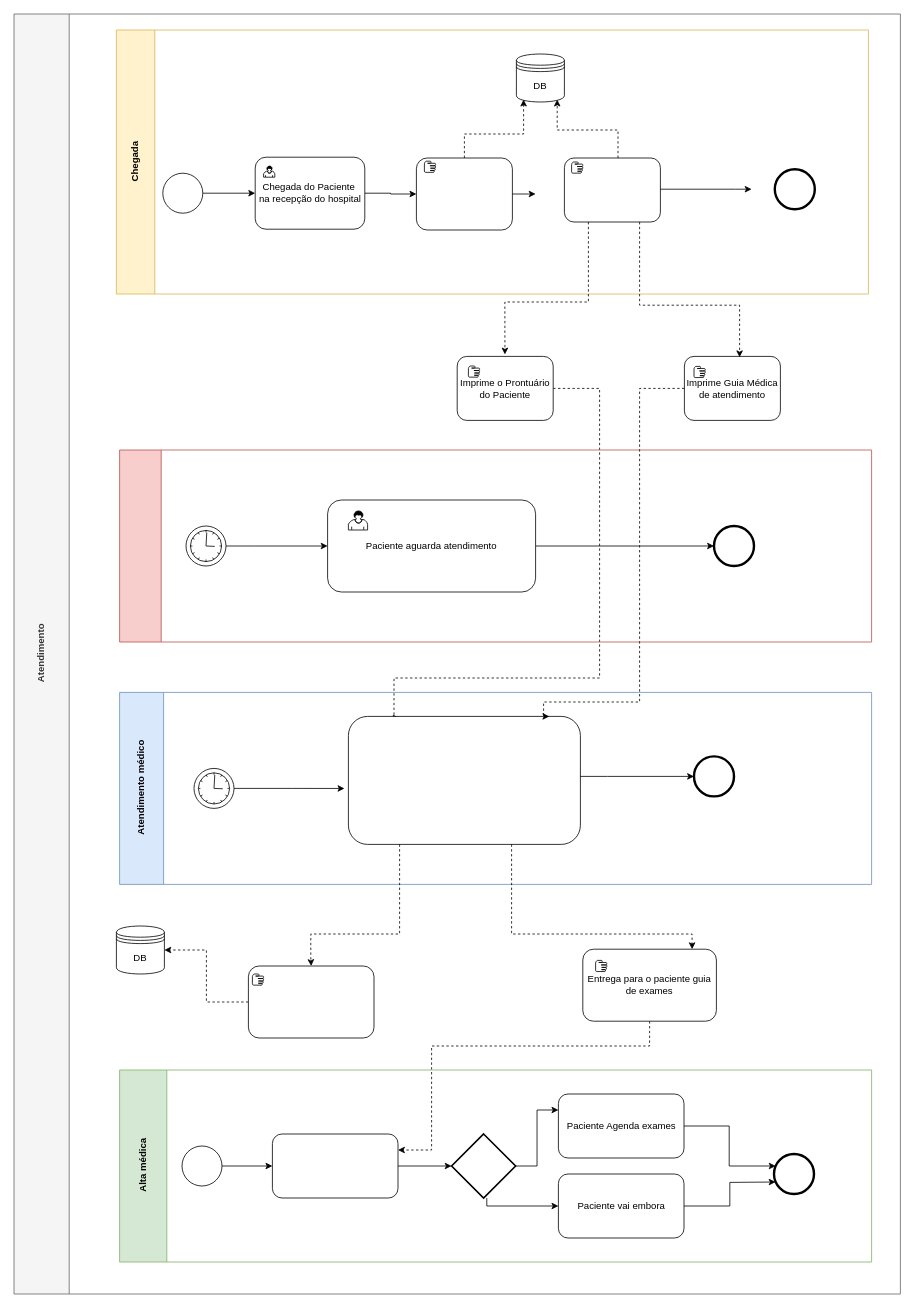
This 914x1308 diagram has some shape labels left out. The box of each missing label's shape, as (x1, y1, x2, y2) in pixels:
Agendar consultar no Banco de Dados: (564, 157, 660, 222)
Cadastrar Paciente no Banco de dados: (416, 157, 512, 230)
Espera: (119, 449, 872, 642)
Médico atualiza o prontuário do paciente: (248, 965, 374, 1038)
Médico realiza consulta: (348, 716, 580, 844)
Paciente é liberado pelo médico: (272, 1133, 398, 1198)
